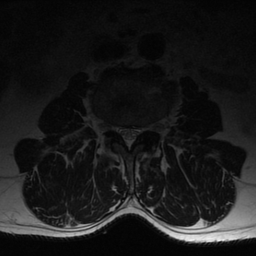CCS_normal: (124, 120, 133, 154)
LFS_stenosis: (141, 120, 148, 138)
LLS_normal: (133, 120, 141, 141)
RFS_stenosis: (109, 119, 117, 139)
RLS_stenosis: (117, 120, 125, 141)
